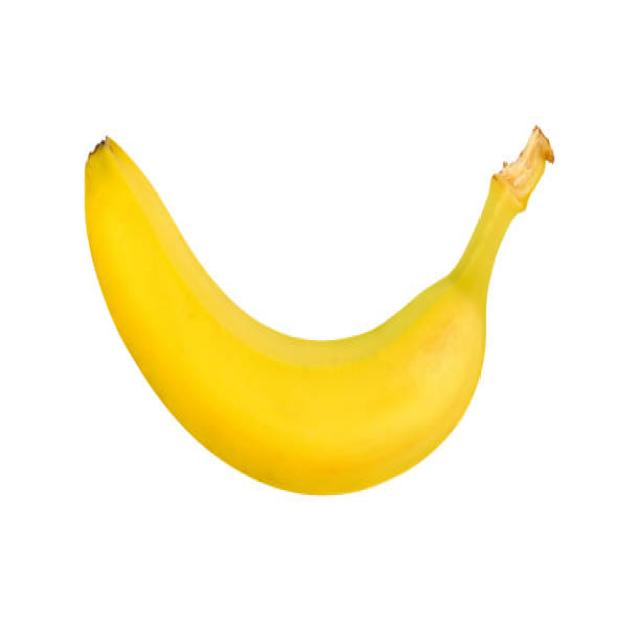Ripe: (77, 134, 519, 498)
